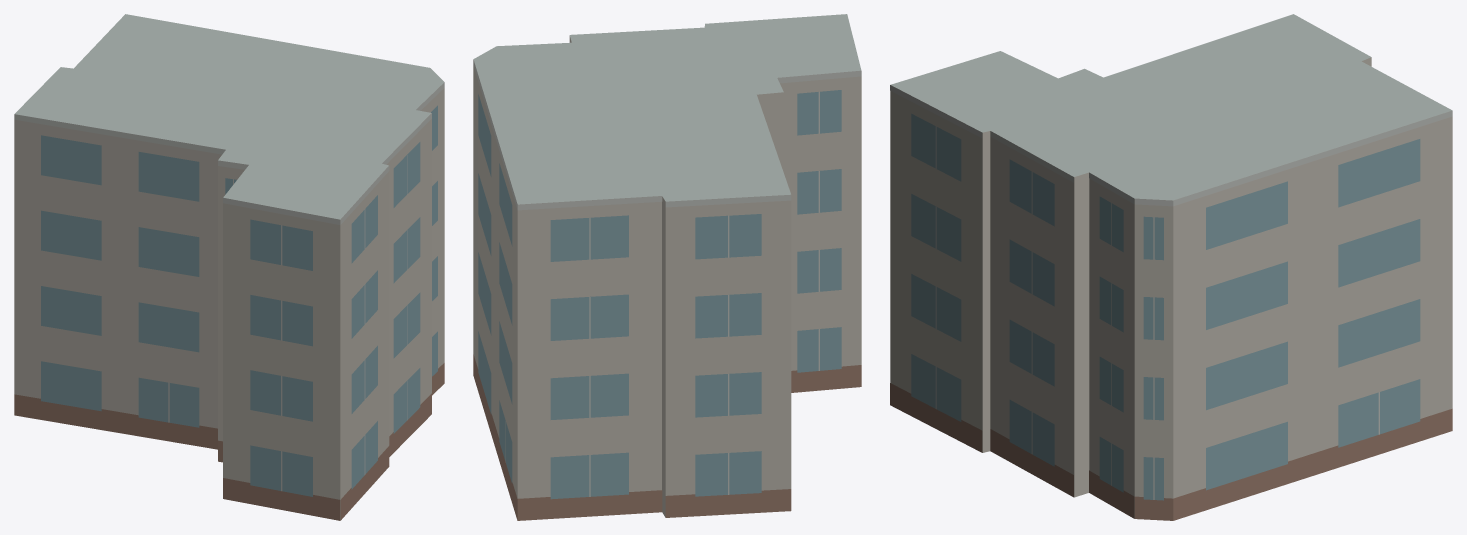
Rendered from survey-upis-33047214.glb.
3 views of the same model, side by side, from view 1: azimuth 30°, elevation 25°; view 2: azimuth 150°, elevation 25°; view 3: azimuth 270°, elevation 25° (orthographic). The views are drawn at different scales.
Visible parts, largest first — view 1: survey-upis-33047214.tmp; view 2: survey-upis-33047214.tmp; view 3: survey-upis-33047214.tmp.
Part boxes in pixels (x1,y1,x2,y2): survey-upis-33047214.tmp: (14, 14, 444, 520); survey-upis-33047214.tmp: (473, 14, 861, 520); survey-upis-33047214.tmp: (890, 14, 1452, 520).
Bounding box in the file's own units: 16.55 × 13.25 × 21.09.
